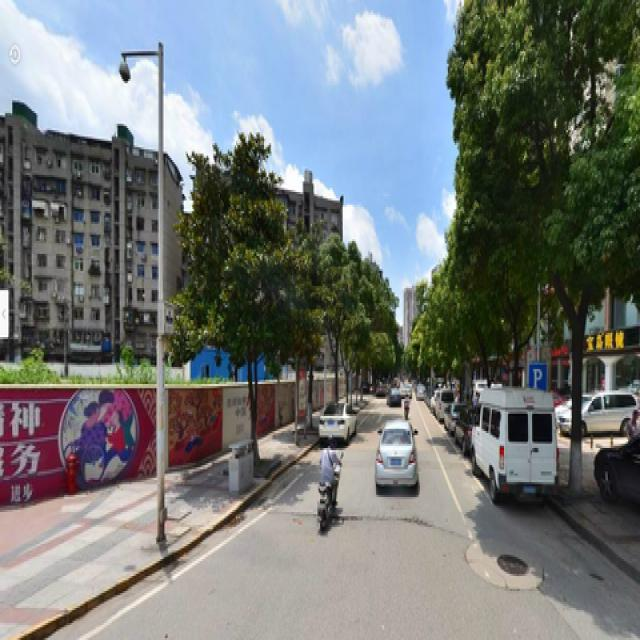magn: (183, 143, 297, 474)
